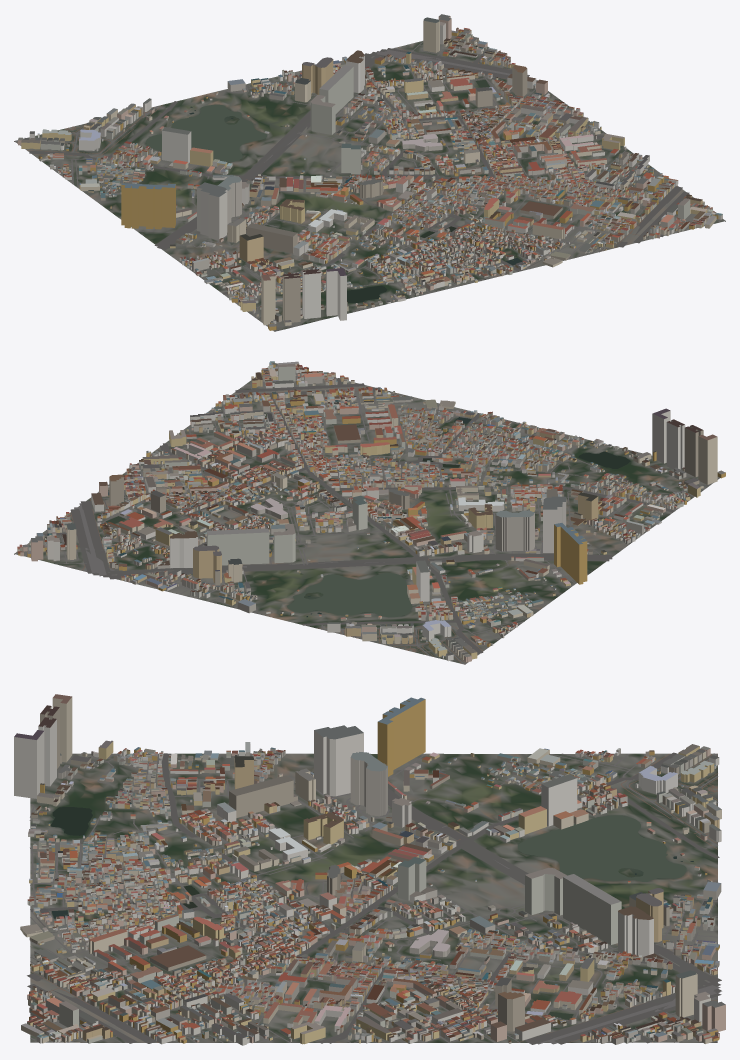
3 views of the same model, one above another, from view 1: azimuth 30°, elevation 25°; view 2: azimuth 150°, elevation 25°; view 3: azimuth 270°, elevation 25° (orthographic). The views are drawn at different scales.
Parts seen in each view (by area): view 1: buildings, ground, roads, water; view 2: buildings, ground, roads, water; view 3: buildings, ground, roads, water.
Boxes of the visible parts, x1=… form: buildings: x1=18, y1=14, x2=722, y2=330; ground: x1=14, y1=33, x2=725, y2=331; roads: x1=14, y1=33, x2=721, y2=326; water: x1=146, y1=80, x2=522, y2=302; buildings: x1=17, y1=361, x2=725, y2=661; ground: x1=14, y1=363, x2=719, y2=664; roads: x1=17, y1=365, x2=719, y2=664; water: x1=106, y1=417, x2=630, y2=617; buildings: x1=14, y1=694, x2=725, y2=1045; ground: x1=30, y1=753, x2=717, y2=1042; roads: x1=27, y1=752, x2=721, y2=1044; water: x1=50, y1=807, x2=693, y2=1019.
Bounding box in the file's own units: 1432 × 137 × 1452.
